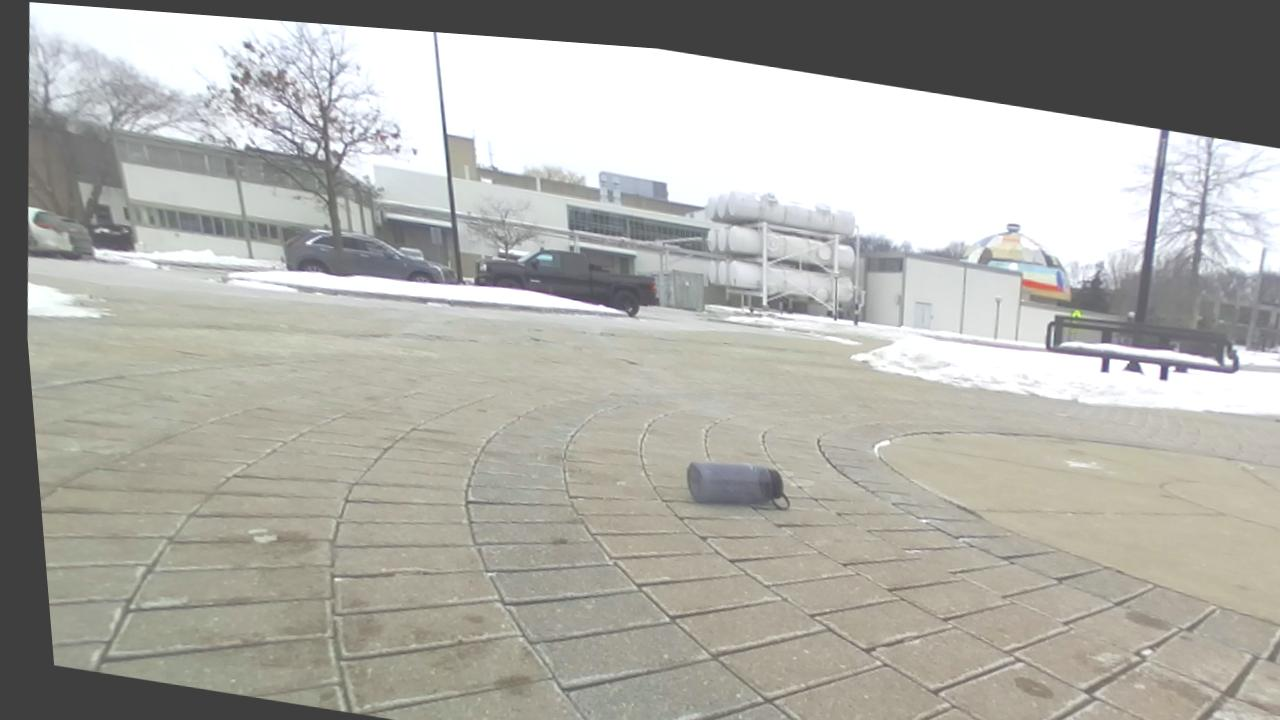bottle: (686, 461, 788, 508)
